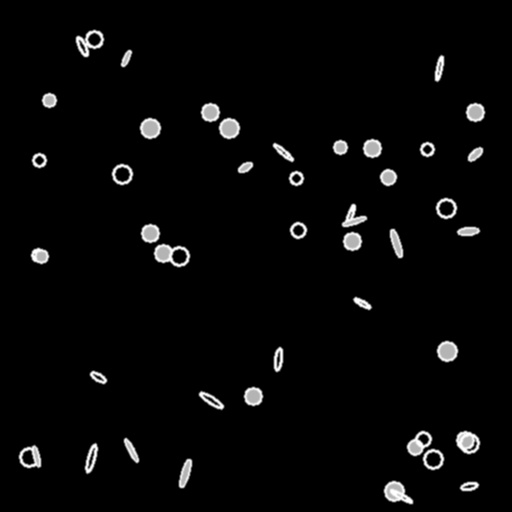pseudomonas: (198, 390, 224, 410), (388, 228, 404, 258), (272, 142, 294, 162), (178, 458, 192, 488), (84, 444, 98, 472), (123, 438, 139, 462), (389, 488, 413, 504), (341, 215, 367, 227), (75, 35, 89, 57), (344, 203, 356, 227), (352, 296, 372, 310), (467, 146, 483, 162), (434, 56, 444, 80), (237, 160, 253, 174), (90, 370, 106, 384), (31, 446, 41, 466), (120, 50, 132, 66), (274, 347, 282, 371), (460, 481, 478, 491), (458, 227, 478, 235)
synechocystis: (437, 199, 455, 217), (424, 450, 442, 468), (385, 482, 403, 500), (113, 165, 131, 183), (438, 342, 456, 360), (141, 119, 159, 137), (460, 434, 478, 452), (220, 119, 238, 137), (20, 448, 38, 466), (170, 247, 188, 265), (142, 225, 158, 241), (344, 233, 360, 249), (155, 245, 171, 261), (86, 31, 102, 47), (245, 388, 261, 404), (364, 140, 380, 156), (467, 104, 483, 120), (457, 432, 473, 448), (202, 104, 218, 120), (408, 440, 422, 454), (381, 170, 395, 184), (416, 432, 430, 446), (291, 223, 305, 237), (334, 141, 346, 153), (290, 172, 302, 184), (421, 143, 433, 155), (33, 154, 45, 166), (32, 249, 44, 261), (43, 94, 55, 106), (35, 250, 47, 262)
